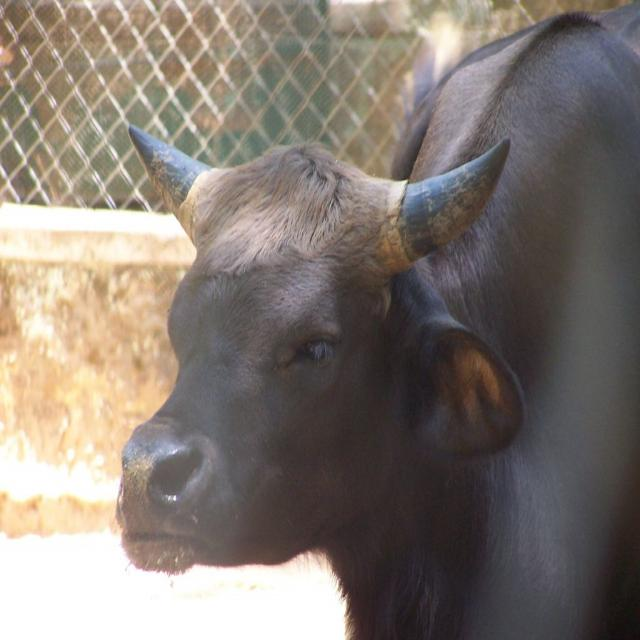Cattle: (95, 73, 590, 633)
